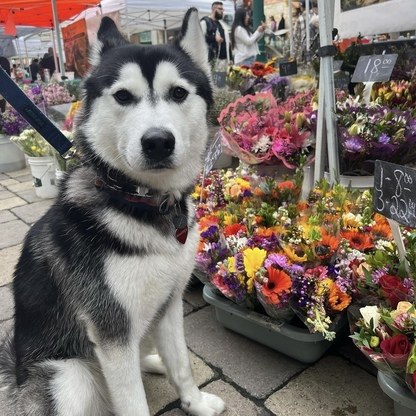husky: (1, 3, 233, 416)
